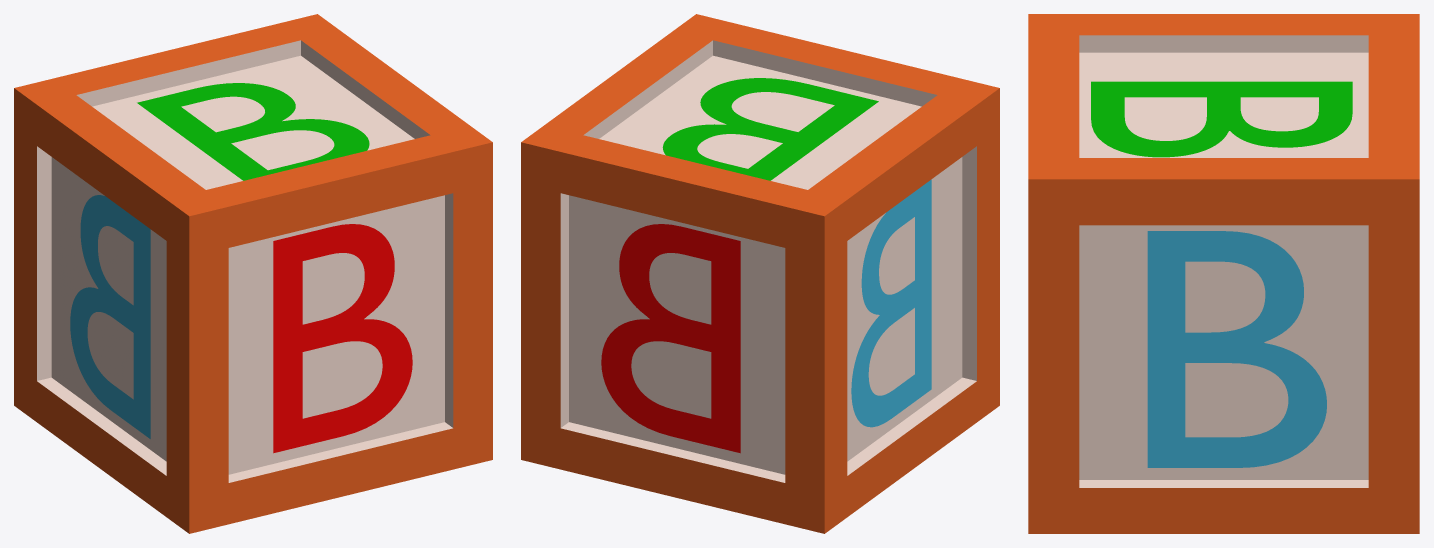
File: Prop_KidsCube_B.fbx
3 renders of one model, left to right at view 1: azimuth 30°, elevation 25°; view 2: azimuth 150°, elevation 25°; view 3: azimuth 270°, elevation 25°, orthographic. The views are drawn at different scales.
Parts seen in each view (by area): view 1: Prop_KidsCube_B; view 2: Prop_KidsCube_B; view 3: Prop_KidsCube_B.
Boxes of the visible parts, bbox=[...] form: Prop_KidsCube_B: bbox=[14, 14, 492, 533]; Prop_KidsCube_B: bbox=[521, 14, 999, 533]; Prop_KidsCube_B: bbox=[1028, 14, 1419, 533].
Bounding box in the file's own units: 20.93 × 20.93 × 20.93.
Materials: 1 (1 with a texture image).
